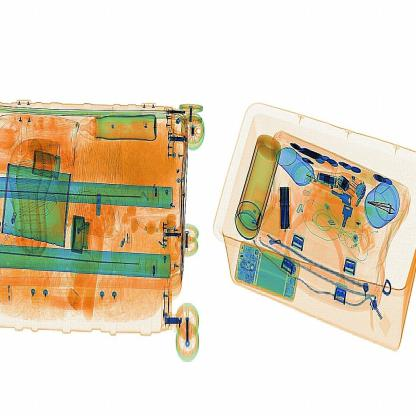scissors: (274, 179, 302, 236)
